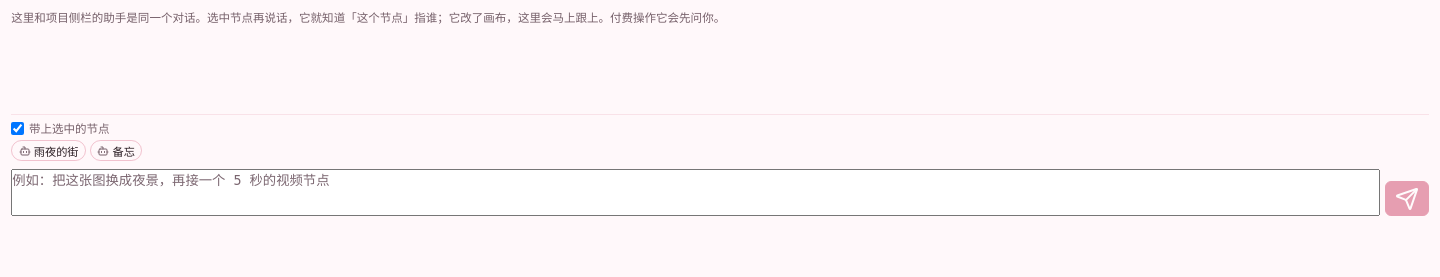
Test: the assistant inside the canvas › brings the canvas up to date when the assistant wrote this board, and can jump to what it changed
Later steps or results of the test are not shown.
Type "把这两个连起来" into the text box named "对助手说" at (695, 193), box 11,169 -> 1380,216
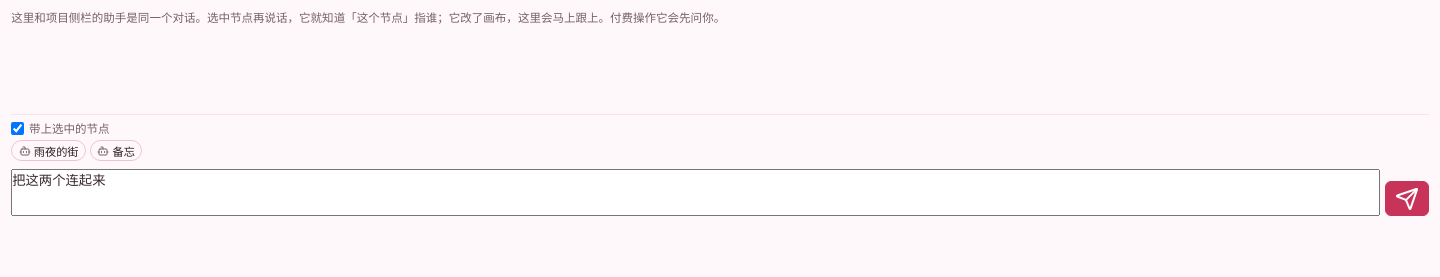
Click the button named "发给助手" at (1407, 199), box 1385,181 -> 1429,216
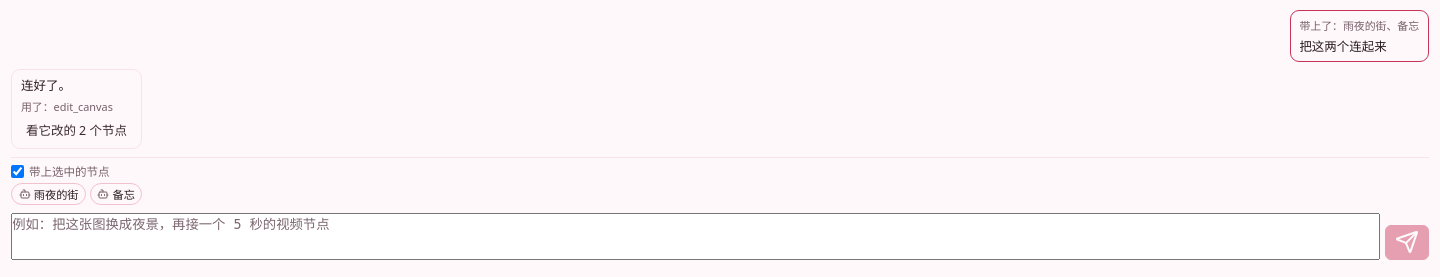
Result: the text "连好了。" is shown at 21,77 -> 71,94
Result: the text "用了：edit_canvas" is shown at 21,99 -> 113,114
